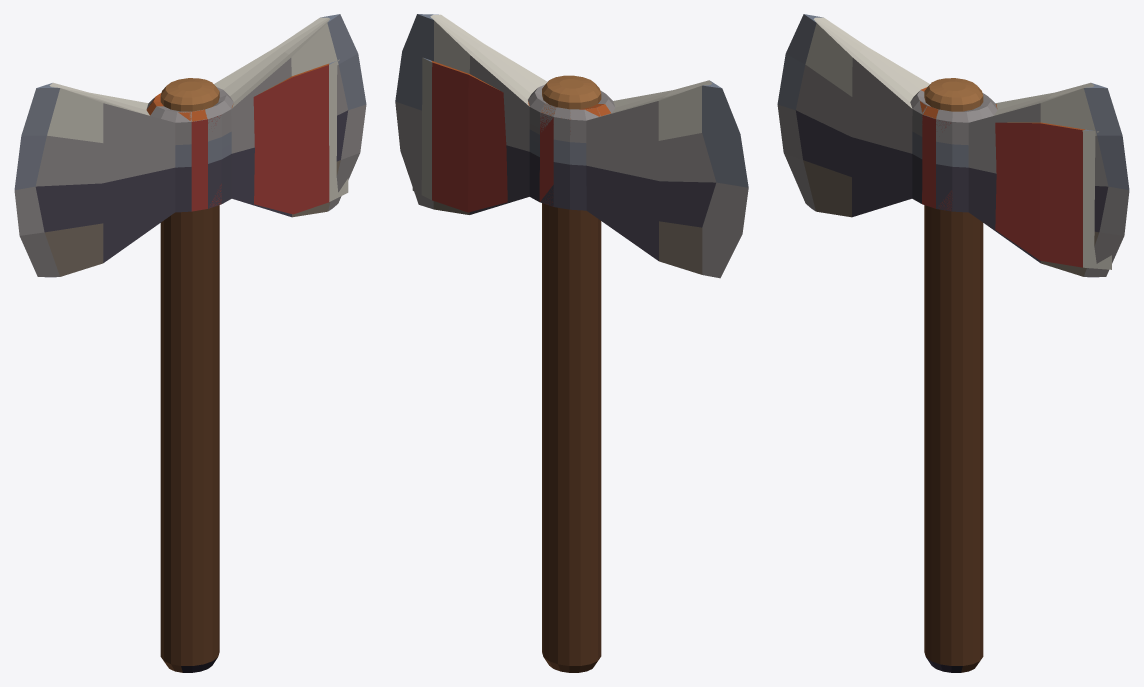
Rendered from axes.glb.
The picture shows the model from 3 angles, left to right: view 1: azimuth 30°, elevation 25°; view 2: azimuth 150°, elevation 25°; view 3: azimuth 330°, elevation 25°; orthographic projection.
Visible parts, largest first — view 1: DoubleHeadedAxe; view 2: DoubleHeadedAxe; view 3: DoubleHeadedAxe.
Boxes of the visible parts, x1=… form: DoubleHeadedAxe: x1=14, y1=14, x2=366, y2=672; DoubleHeadedAxe: x1=395, y1=14, x2=748, y2=672; DoubleHeadedAxe: x1=777, y1=14, x2=1129, y2=672.
Bounding box in the file's own units: 0.4788 × 0.8 × 0.0845.
